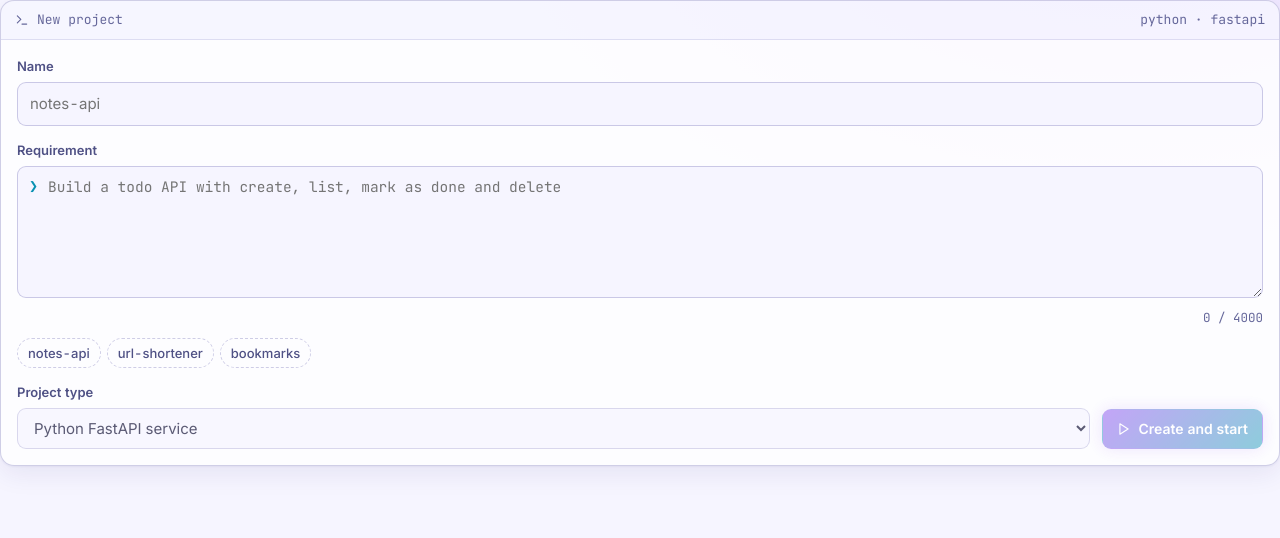
Test: NewProjectForm › shows the API's message when starting fails
Type "todo" into the field labelled "Name" at (640,104), box [17,82,1263,126]
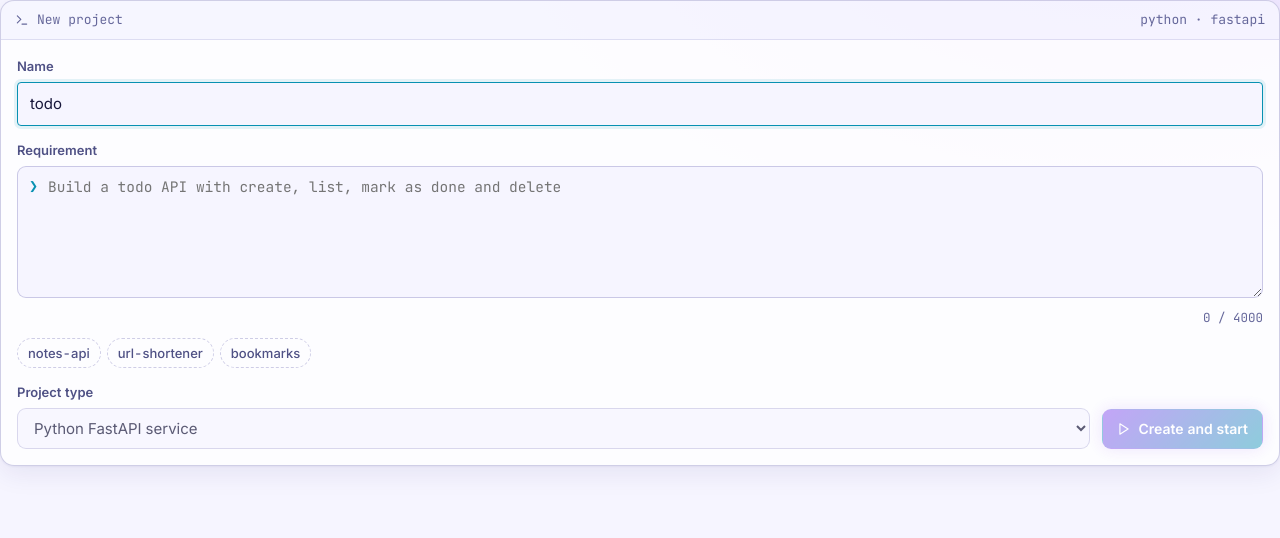
Type "Build a todo API" into the text box labelled "Requirement" at (640,232), box [17,166,1263,298]
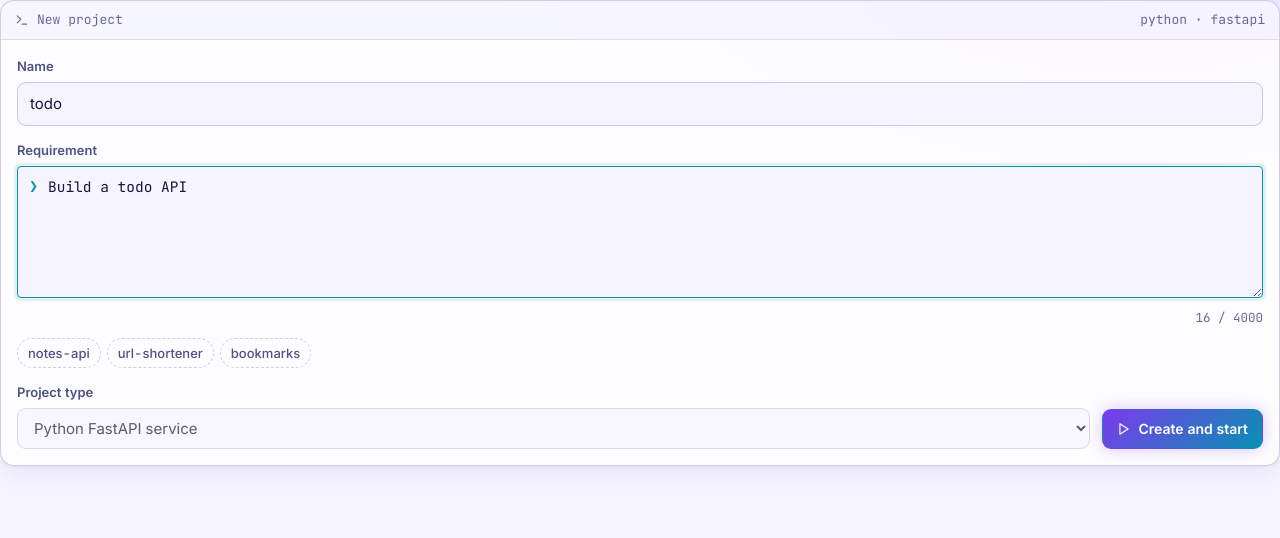
Click the button "Create and start" at (1182,429), box [1102,409,1263,449]
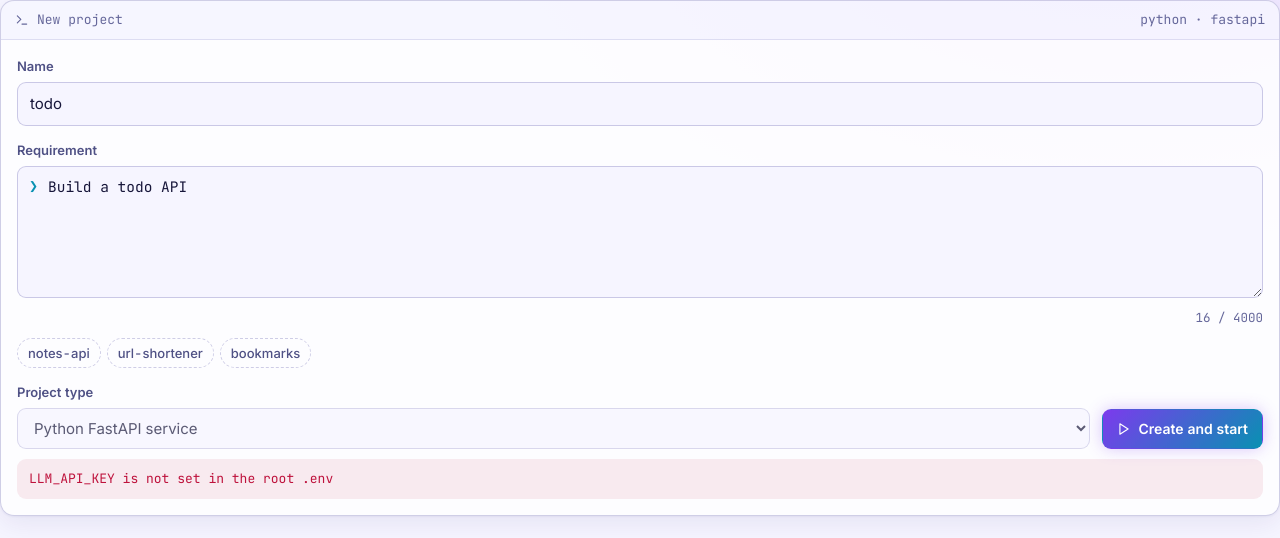
Expected: the message shows "LLM_API_KEY is not set", [29,470,333,487]
